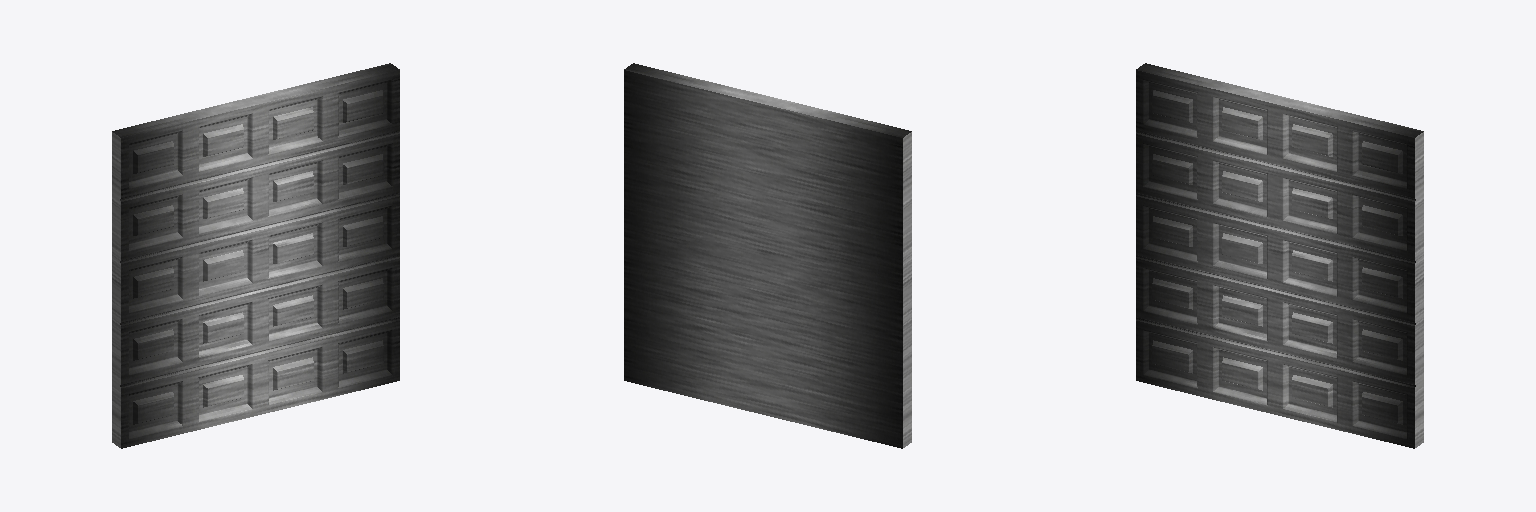
The picture shows the model from 3 angles: view 1: azimuth 30°, elevation 25°; view 2: azimuth 150°, elevation 25°; view 3: azimuth 330°, elevation 25°; orthographic projection.
Visible parts, largest first — view 1: puertagarage:Box001Gate1 group; view 2: puertagarage:Box001Gate1 group; view 3: puertagarage:Box001Gate1 group.
Part boxes in pixels (x1,y1,x2,y2): puertagarage:Box001Gate1 group: (112,63,399,448); puertagarage:Box001Gate1 group: (624,63,911,448); puertagarage:Box001Gate1 group: (1136,63,1423,448).
Bounding box in the file's own units: 2.91 × 3.1 × 0.1712.
1 materials, 1 textured.